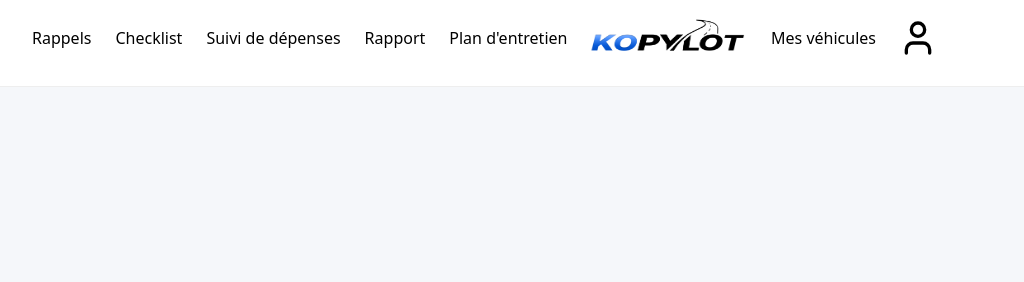
Scenario: Navbar › affiche le menu utilisateur au clic (desktop)
The width and height of the screenshot is (1024, 282).
What coordinates should you click on to do the following:
click the button named "Menu utilisateur desktop"
I would click on:
 (918, 38)
Its box is [892,16,944,58].
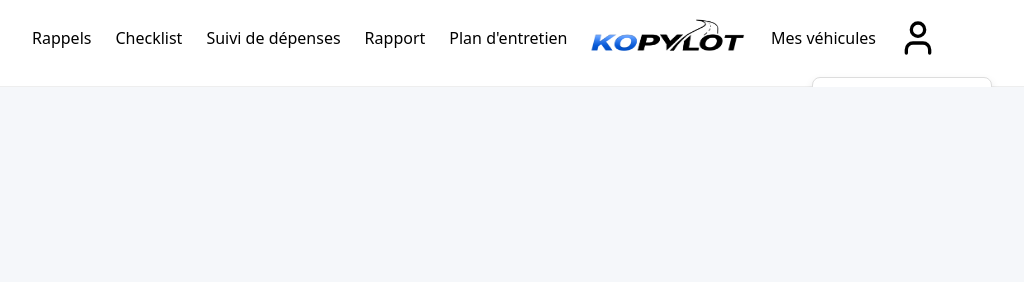
Now the link "Mon profil" is shown, box [813,78,991,124]
